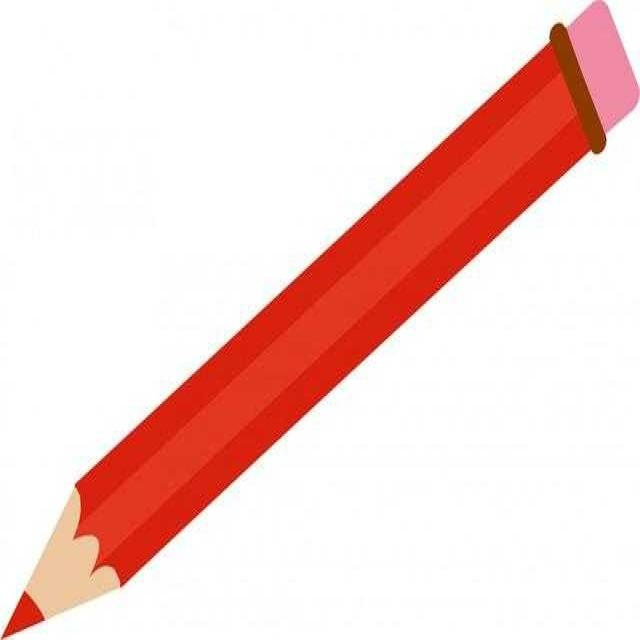pencil: (0, 2, 639, 638)
